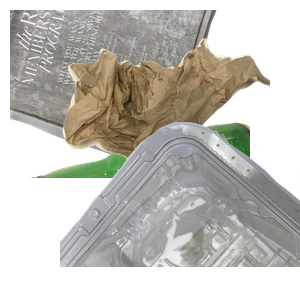glass: (23, 120, 263, 300)
paper: (10, 10, 222, 176)
plastic: (60, 120, 300, 300)
trash: (60, 36, 300, 198)
